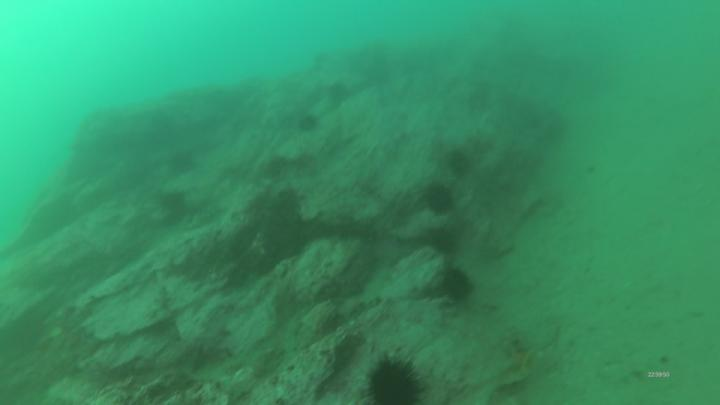echinus: (371, 363, 419, 405), (429, 226, 457, 256), (445, 271, 473, 297), (450, 151, 474, 177), (427, 189, 452, 211), (161, 195, 187, 210), (175, 156, 194, 176), (299, 114, 314, 130)
